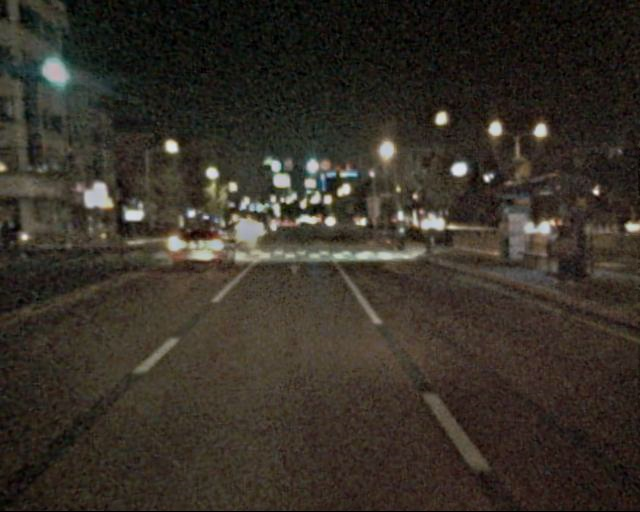person: (563, 218, 591, 286), (559, 223, 583, 284)
